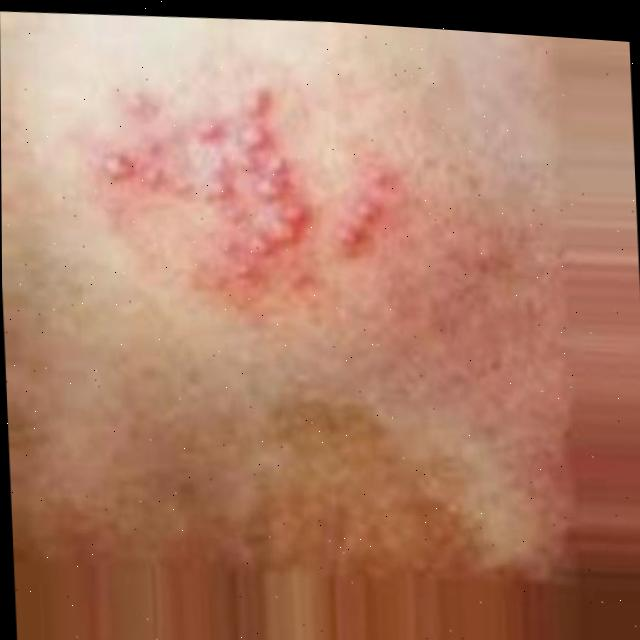Shingles: (97, 76, 312, 317), (340, 177, 395, 260)
